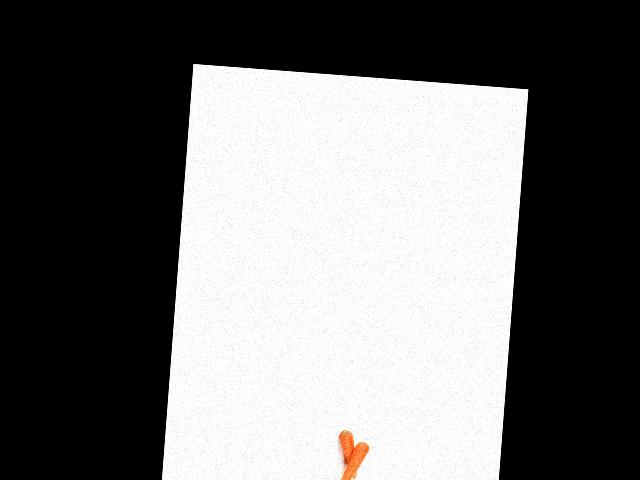carrot: (336, 424, 360, 480)
